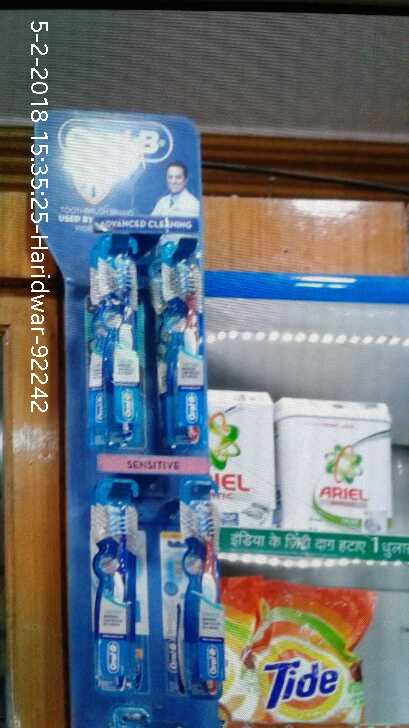home: (227, 576, 369, 726), (277, 396, 394, 535)
pharmacy: (91, 476, 148, 688), (179, 476, 227, 689), (159, 236, 205, 450), (99, 236, 145, 439)
